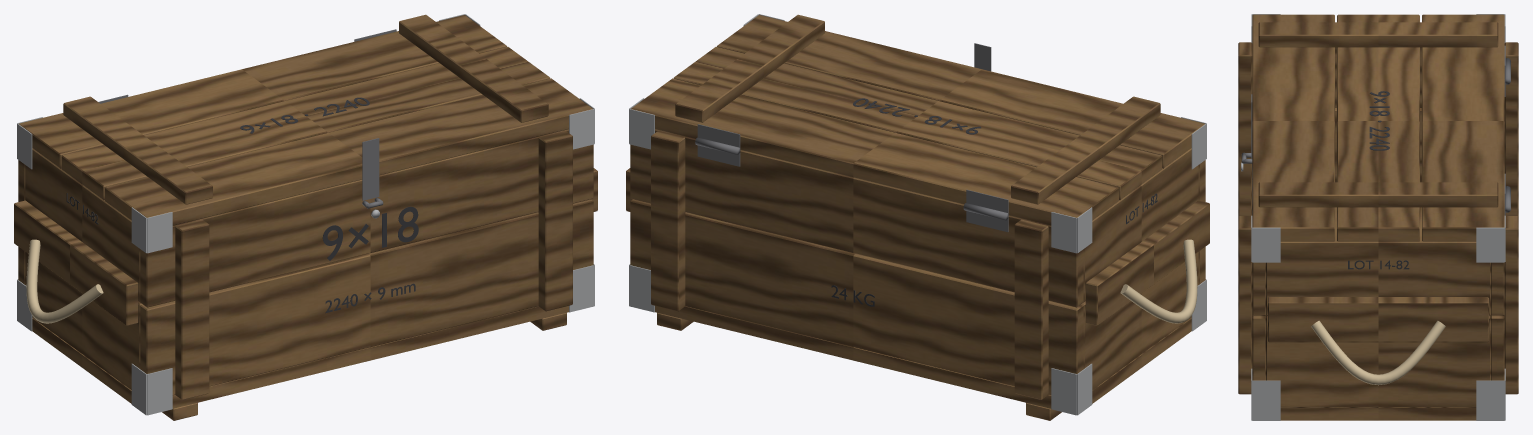
File: ammo_box.glb
3 renders of one model, left to right at view 1: azimuth 30°, elevation 25°; view 2: azimuth 150°, elevation 25°; view 3: azimuth 270°, elevation 25°, orthographic. The views are drawn at different scales.
Parts seen in each view (by area): view 1: ammo_box; view 2: ammo_box; view 3: ammo_box.
Boxes of the visible parts, x1,y1,x2,y2 form: ammo_box: [14, 14, 597, 420]; ammo_box: [626, 14, 1209, 420]; ammo_box: [1238, 14, 1518, 420].
Size of the model in its own units: 0.9684 by 0.399 by 0.444.
5 materials, 1 textured.
